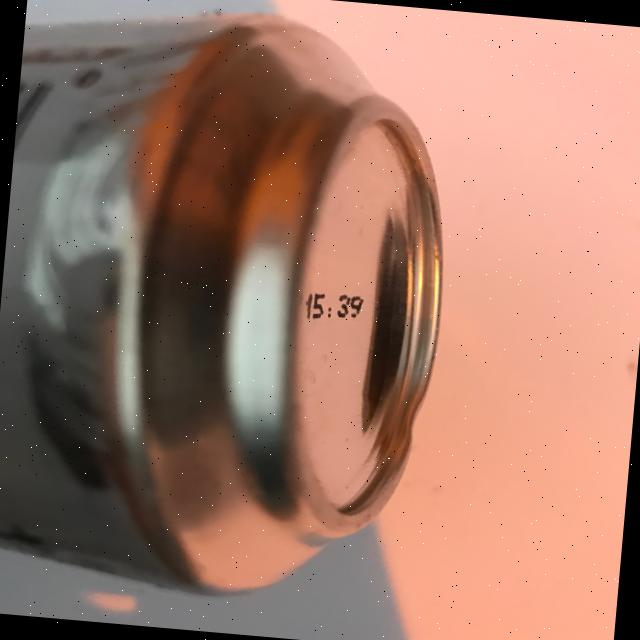metal: (0, 0, 466, 612)
